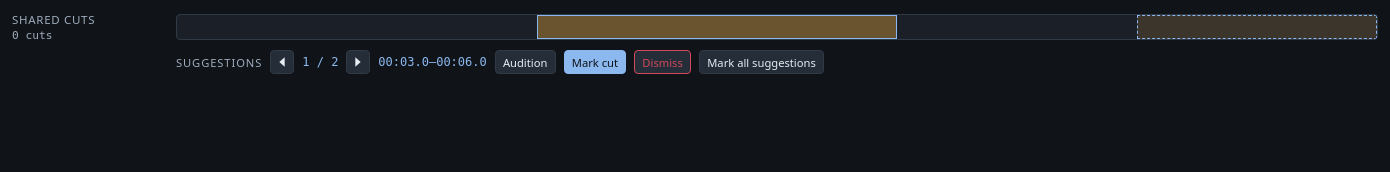
Scenario: cut lane review › accepts every suggestion at once
Click the button "Mark all suggestions": (761, 62) left=699, top=50, right=824, bottom=74
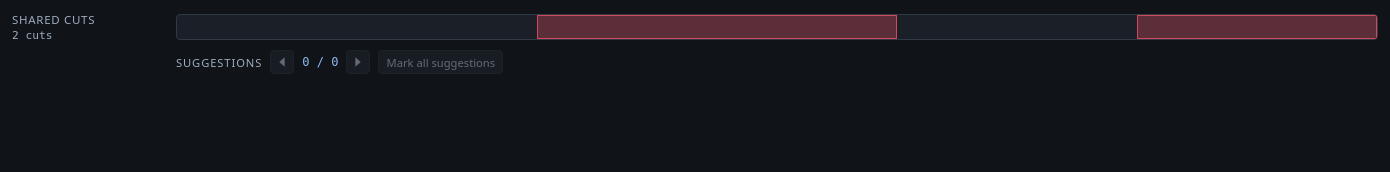
expect the text "0 / 0" is shown: met, box left=302, top=55, right=338, bottom=69
